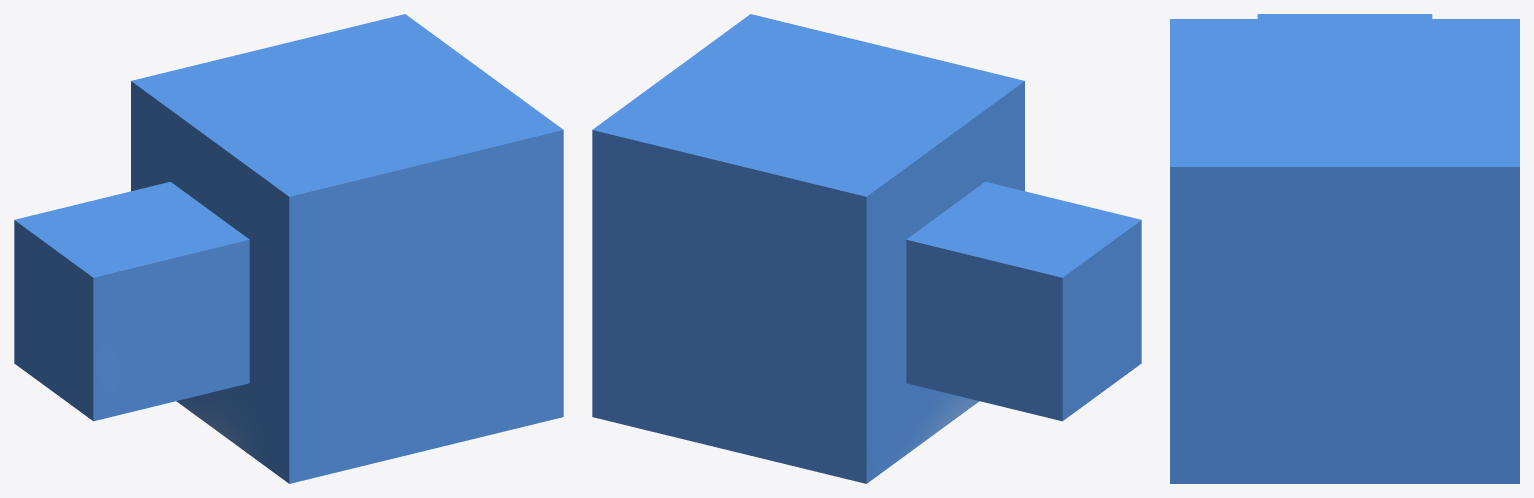
Rendered from PlayerCore.obj.
3 views of the same model, side by side, from view 1: azimuth 30°, elevation 25°; view 2: azimuth 150°, elevation 25°; view 3: azimuth 270°, elevation 25° (orthographic). The views are drawn at different scales.
Parts seen in each view (by area): view 1: Cube; view 2: Cube; view 3: Cube.
Part boxes in pixels (x1,y1,x2,y2): Cube: [14, 14, 563, 483]; Cube: [592, 14, 1141, 483]; Cube: [1170, 14, 1519, 483].
Bounding box in the file's own units: 3.14 × 2 × 2.
1 material, 1 textured.
